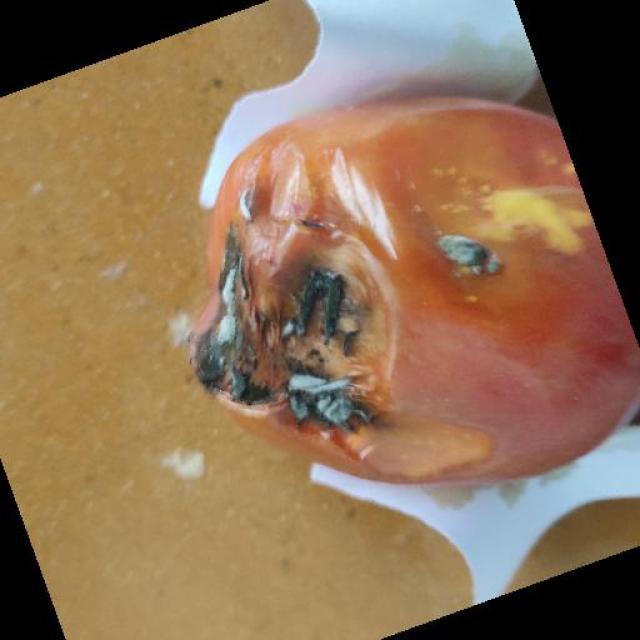Stale_tomato: (127, 65, 640, 481)
